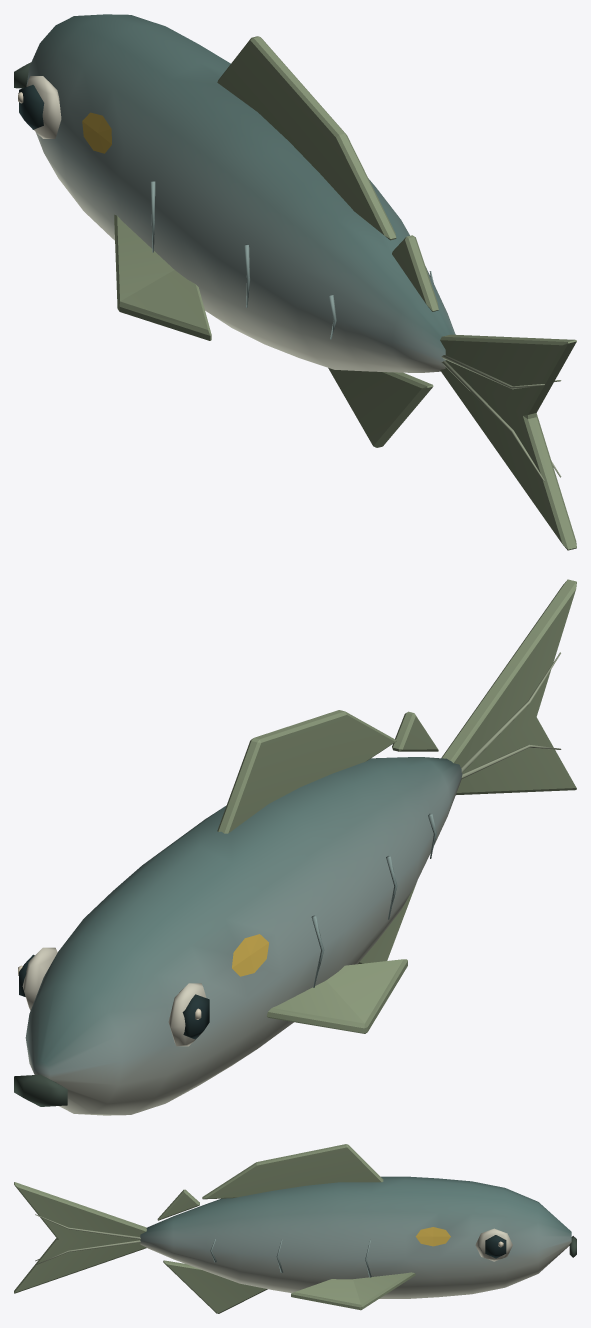
The model's file is fish_sweetfish.glb.
The picture shows the model from 3 angles, top to bottom: view 1: azimuth 30°, elevation 25°; view 2: azimuth 150°, elevation 25°; view 3: azimuth 270°, elevation 25°; orthographic projection. The views are drawn at different scales.
Size of the model in its own units: 0.0588 by 0.0725 by 0.2197.
